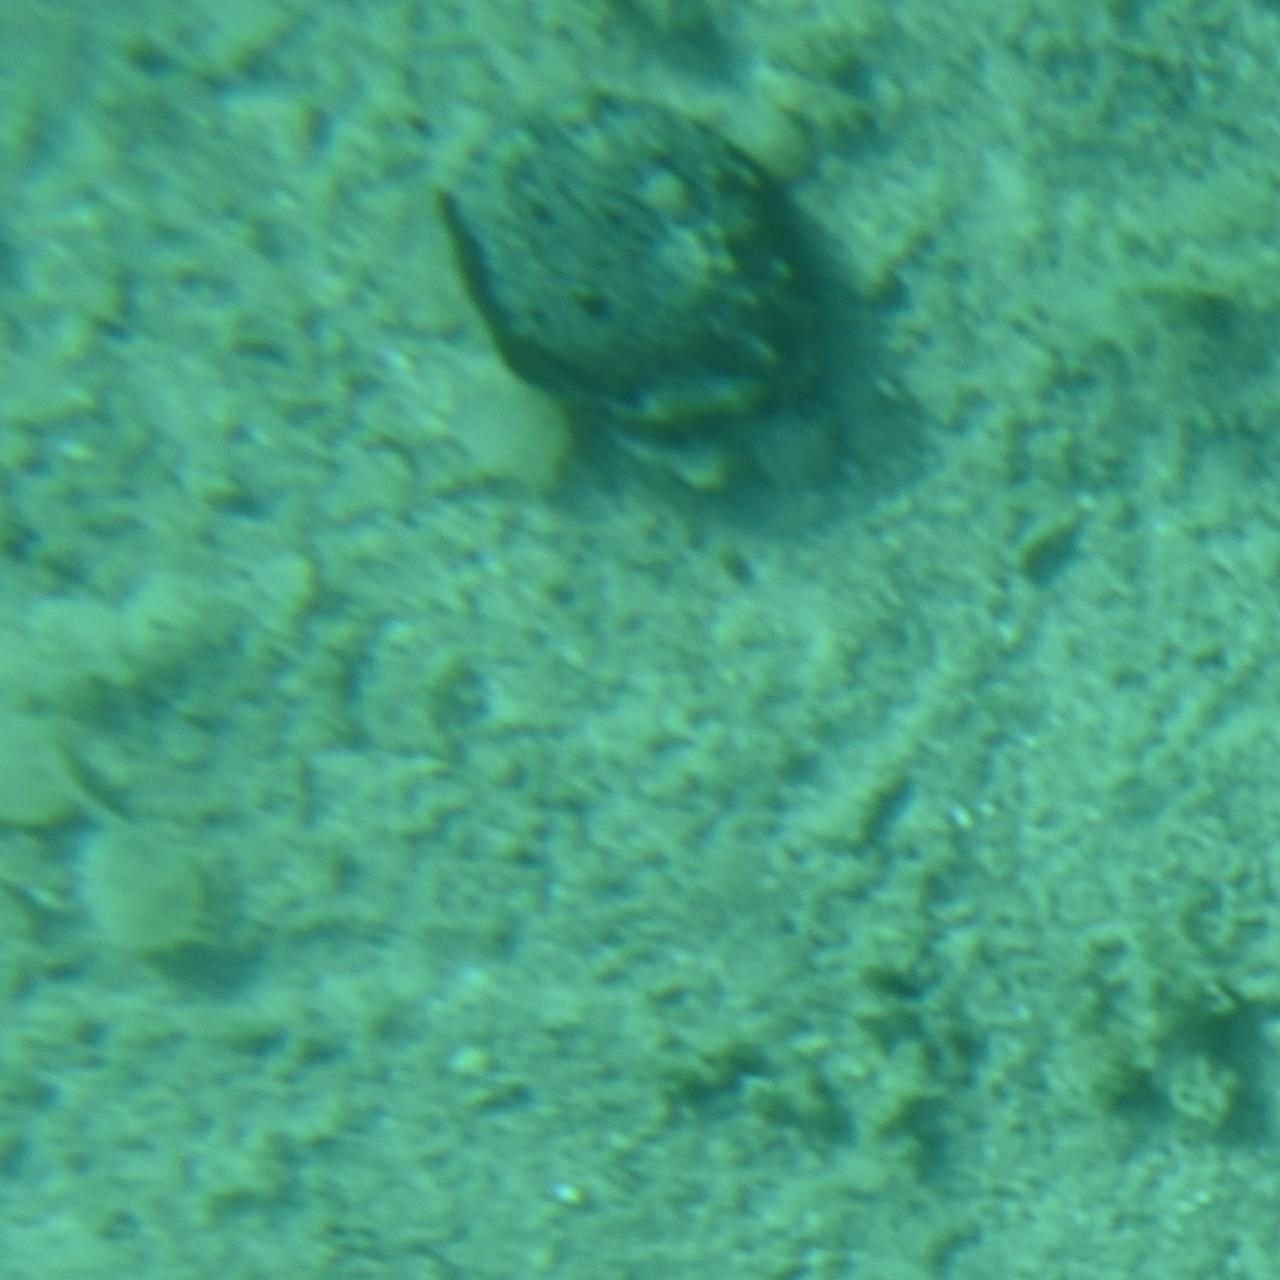Keratosa -cfr Sarcotragus-: (428, 88, 852, 464)
